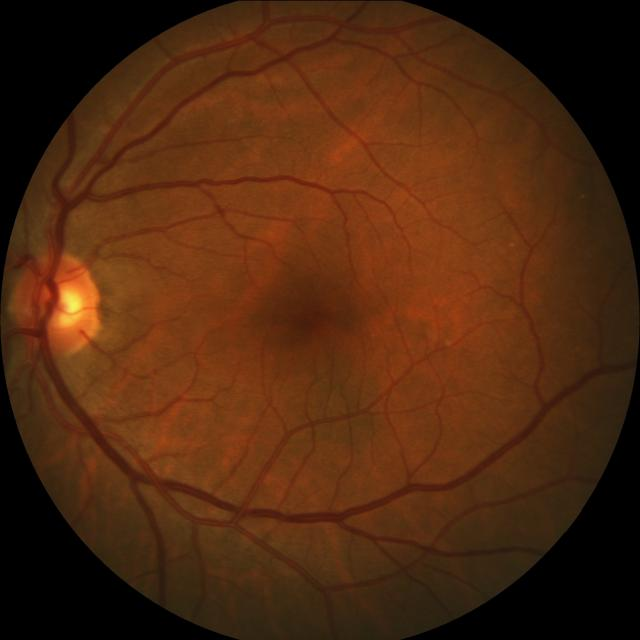OC: (41, 279, 84, 326)
OD: (9, 247, 100, 357)
